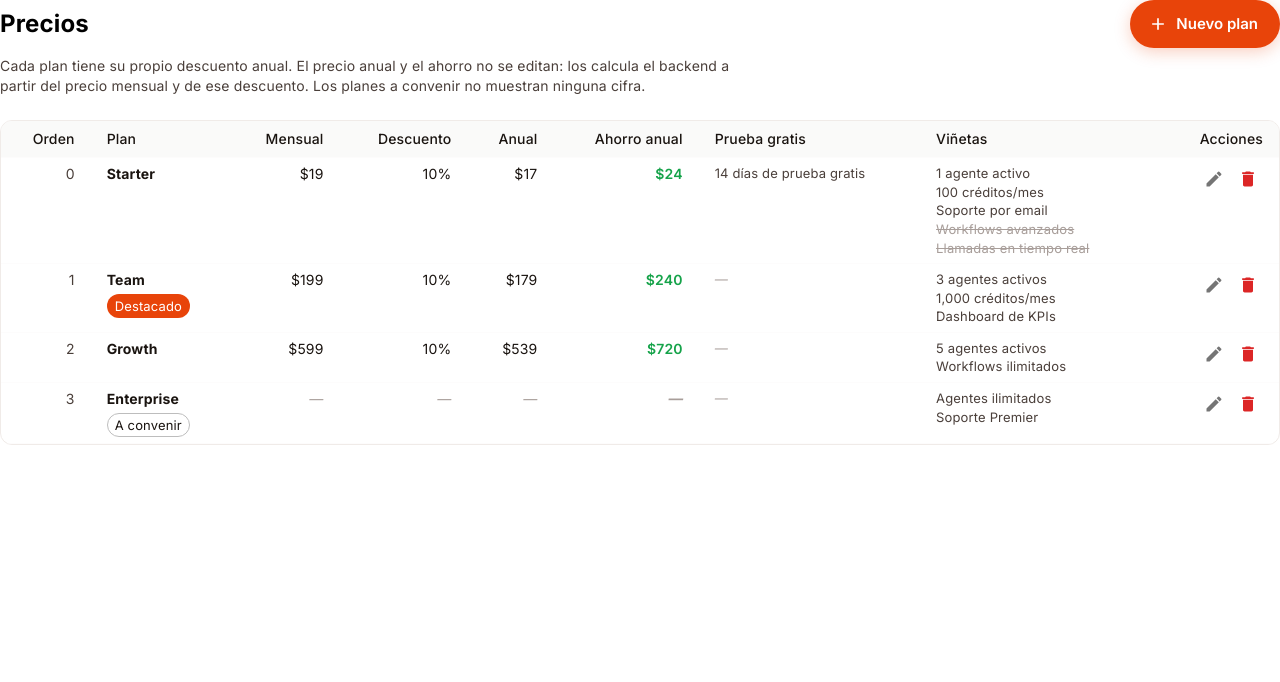
PricesList — edición › la vista previa recalcula con el redondeo del backend al cambiar precio o descuento
The width and height of the screenshot is (1280, 682).
Check: the text "Starter" is shown, box top-left (107, 165), bottom-right (155, 182)
Click the button named "Editar Starter": coordinates (1214, 179) top-left (1199, 164), bottom-right (1229, 194)
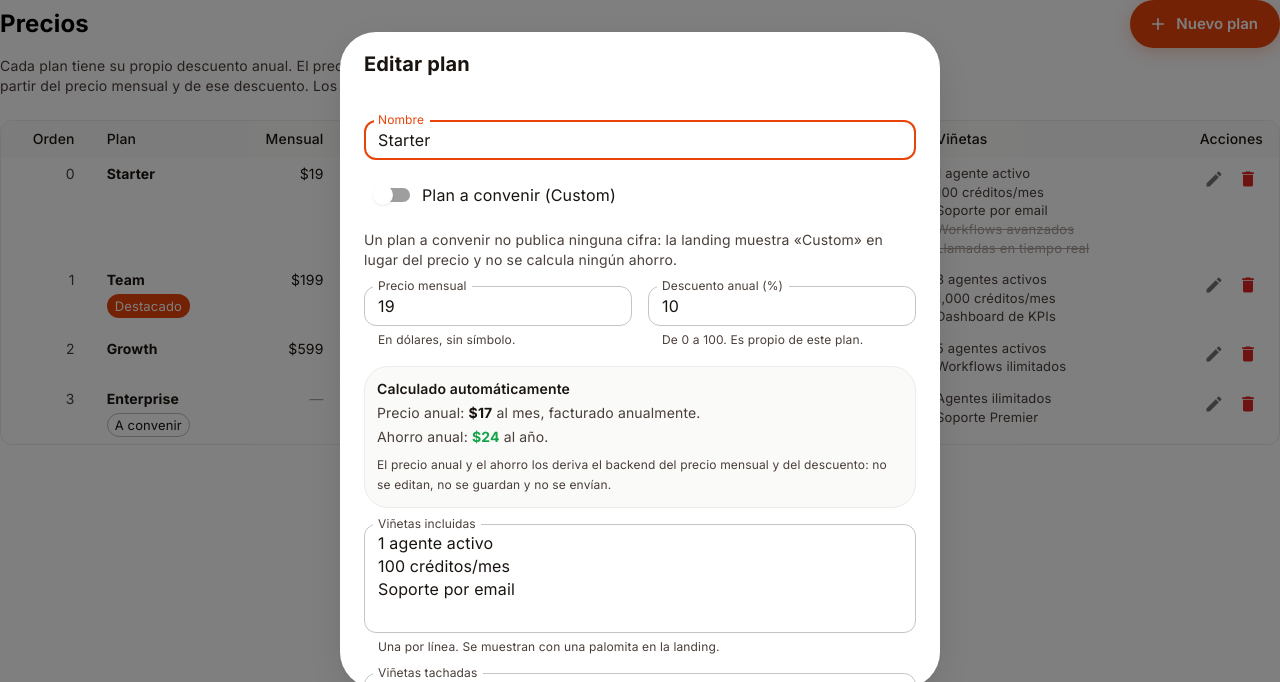
Replace the text in the field labelled "Precio mensual" with "25": coordinates (498, 306) top-left (364, 286), bottom-right (632, 326)
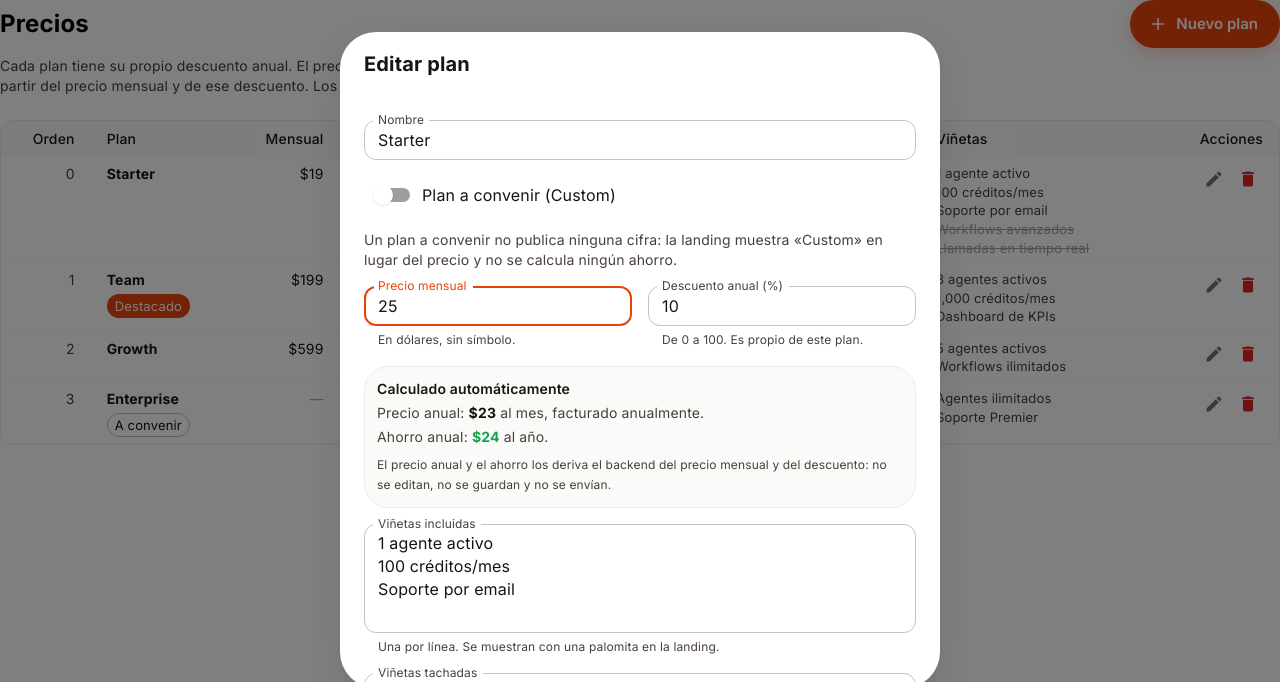
Check: the text with test id "derivado-ahorro-anual" reads "$24", box top-left (472, 428), bottom-right (500, 445)
Check: the text with test id "derivado-precio-anual" reads "$23", box top-left (469, 404), bottom-right (496, 421)
Replace the text in the field labelled "Precio mensual" with "19": coordinates (498, 306) top-left (364, 286), bottom-right (632, 326)
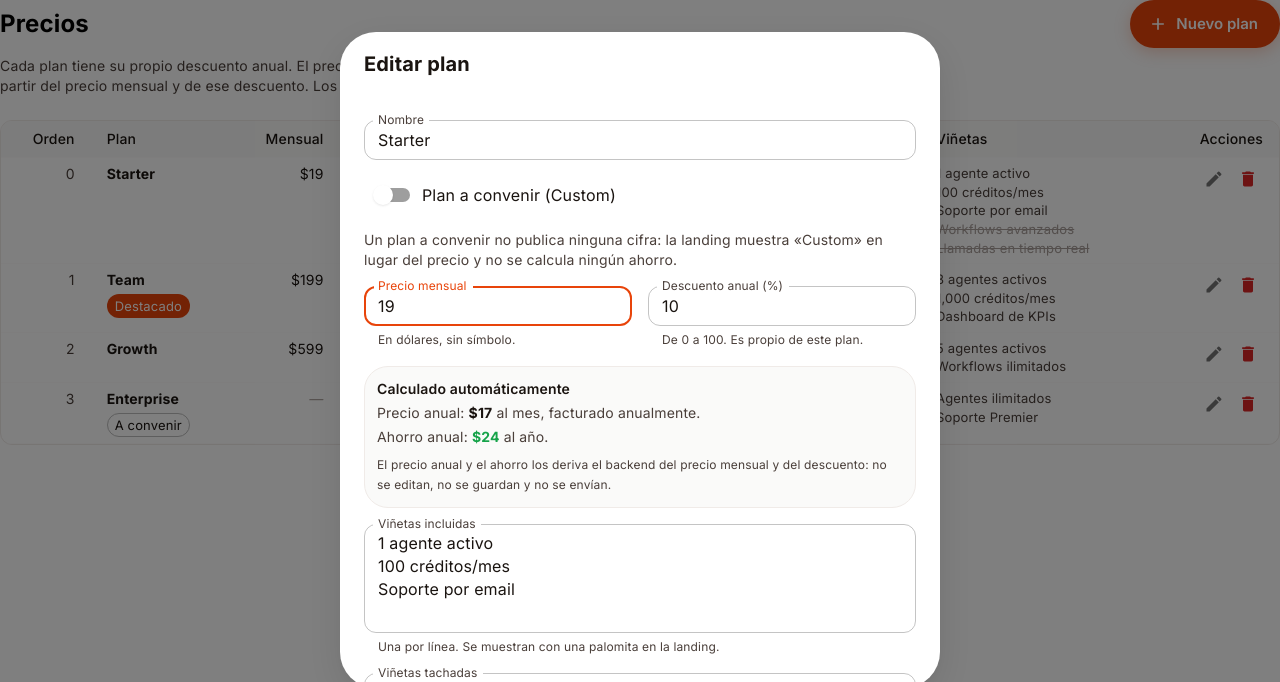
Replace the text in the field labelled "Descuento anual" with "25": coordinates (782, 306) top-left (648, 286), bottom-right (916, 326)
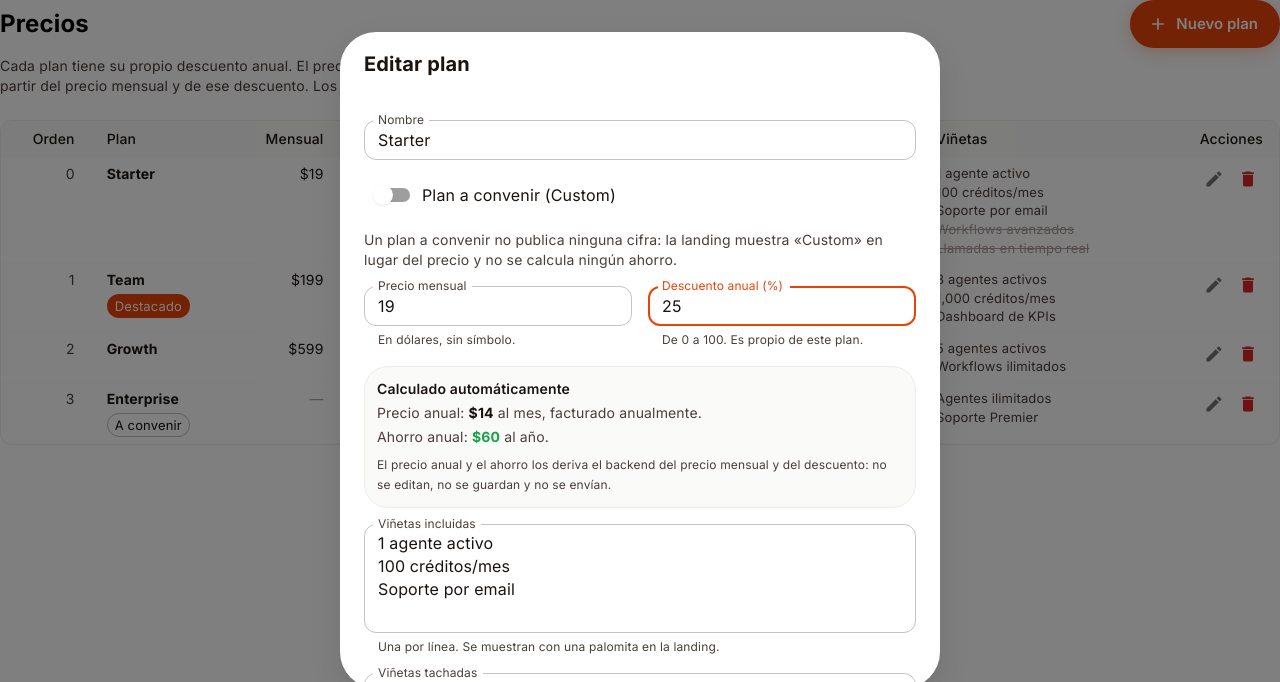
Check: the text with test id "derivado-precio-anual" reads "$14", box top-left (469, 404), bottom-right (494, 421)
Check: the text with test id "derivado-ahorro-anual" reads "$60", box top-left (472, 428), bottom-right (500, 445)
